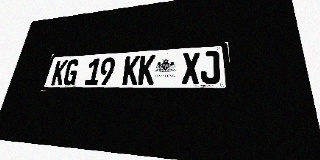1: (84, 58, 102, 85)
9: (98, 57, 116, 85)
G: (62, 59, 80, 85)
J: (200, 51, 220, 84)
K: (137, 55, 156, 85), (122, 56, 140, 85), (50, 60, 68, 86)
X: (182, 52, 200, 84)
